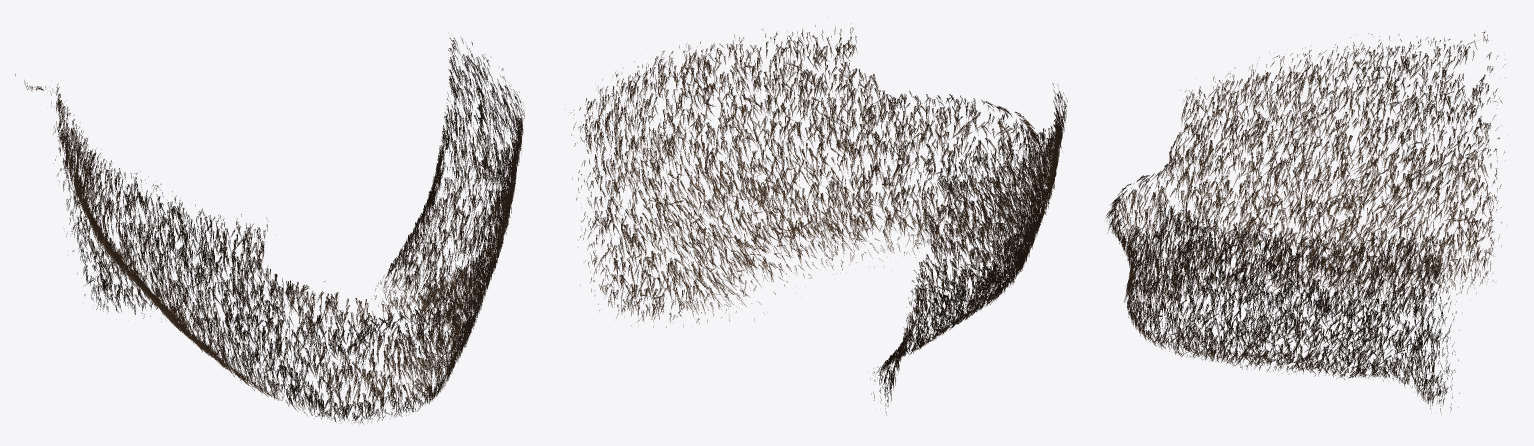
The model's file is beard.glb.
3 renders of one model, left to right at view 1: azimuth 30°, elevation 25°; view 2: azimuth 150°, elevation 25°; view 3: azimuth 270°, elevation 25°, orthographic. The views are drawn at different scales.
Parts seen in each view (by area): view 1: beard; view 2: beard; view 3: beard.
Boxes of the visible parts, x1=… form: beard: x1=15, y1=37, x2=524, y2=423; beard: x1=570, y1=17, x2=1067, y2=414; beard: x1=1106, y1=30, x2=1506, y2=414.
Bounding box in the file's own units: 0.8245 × 0.5367 × 0.7795.
1 material, 1 textured.
